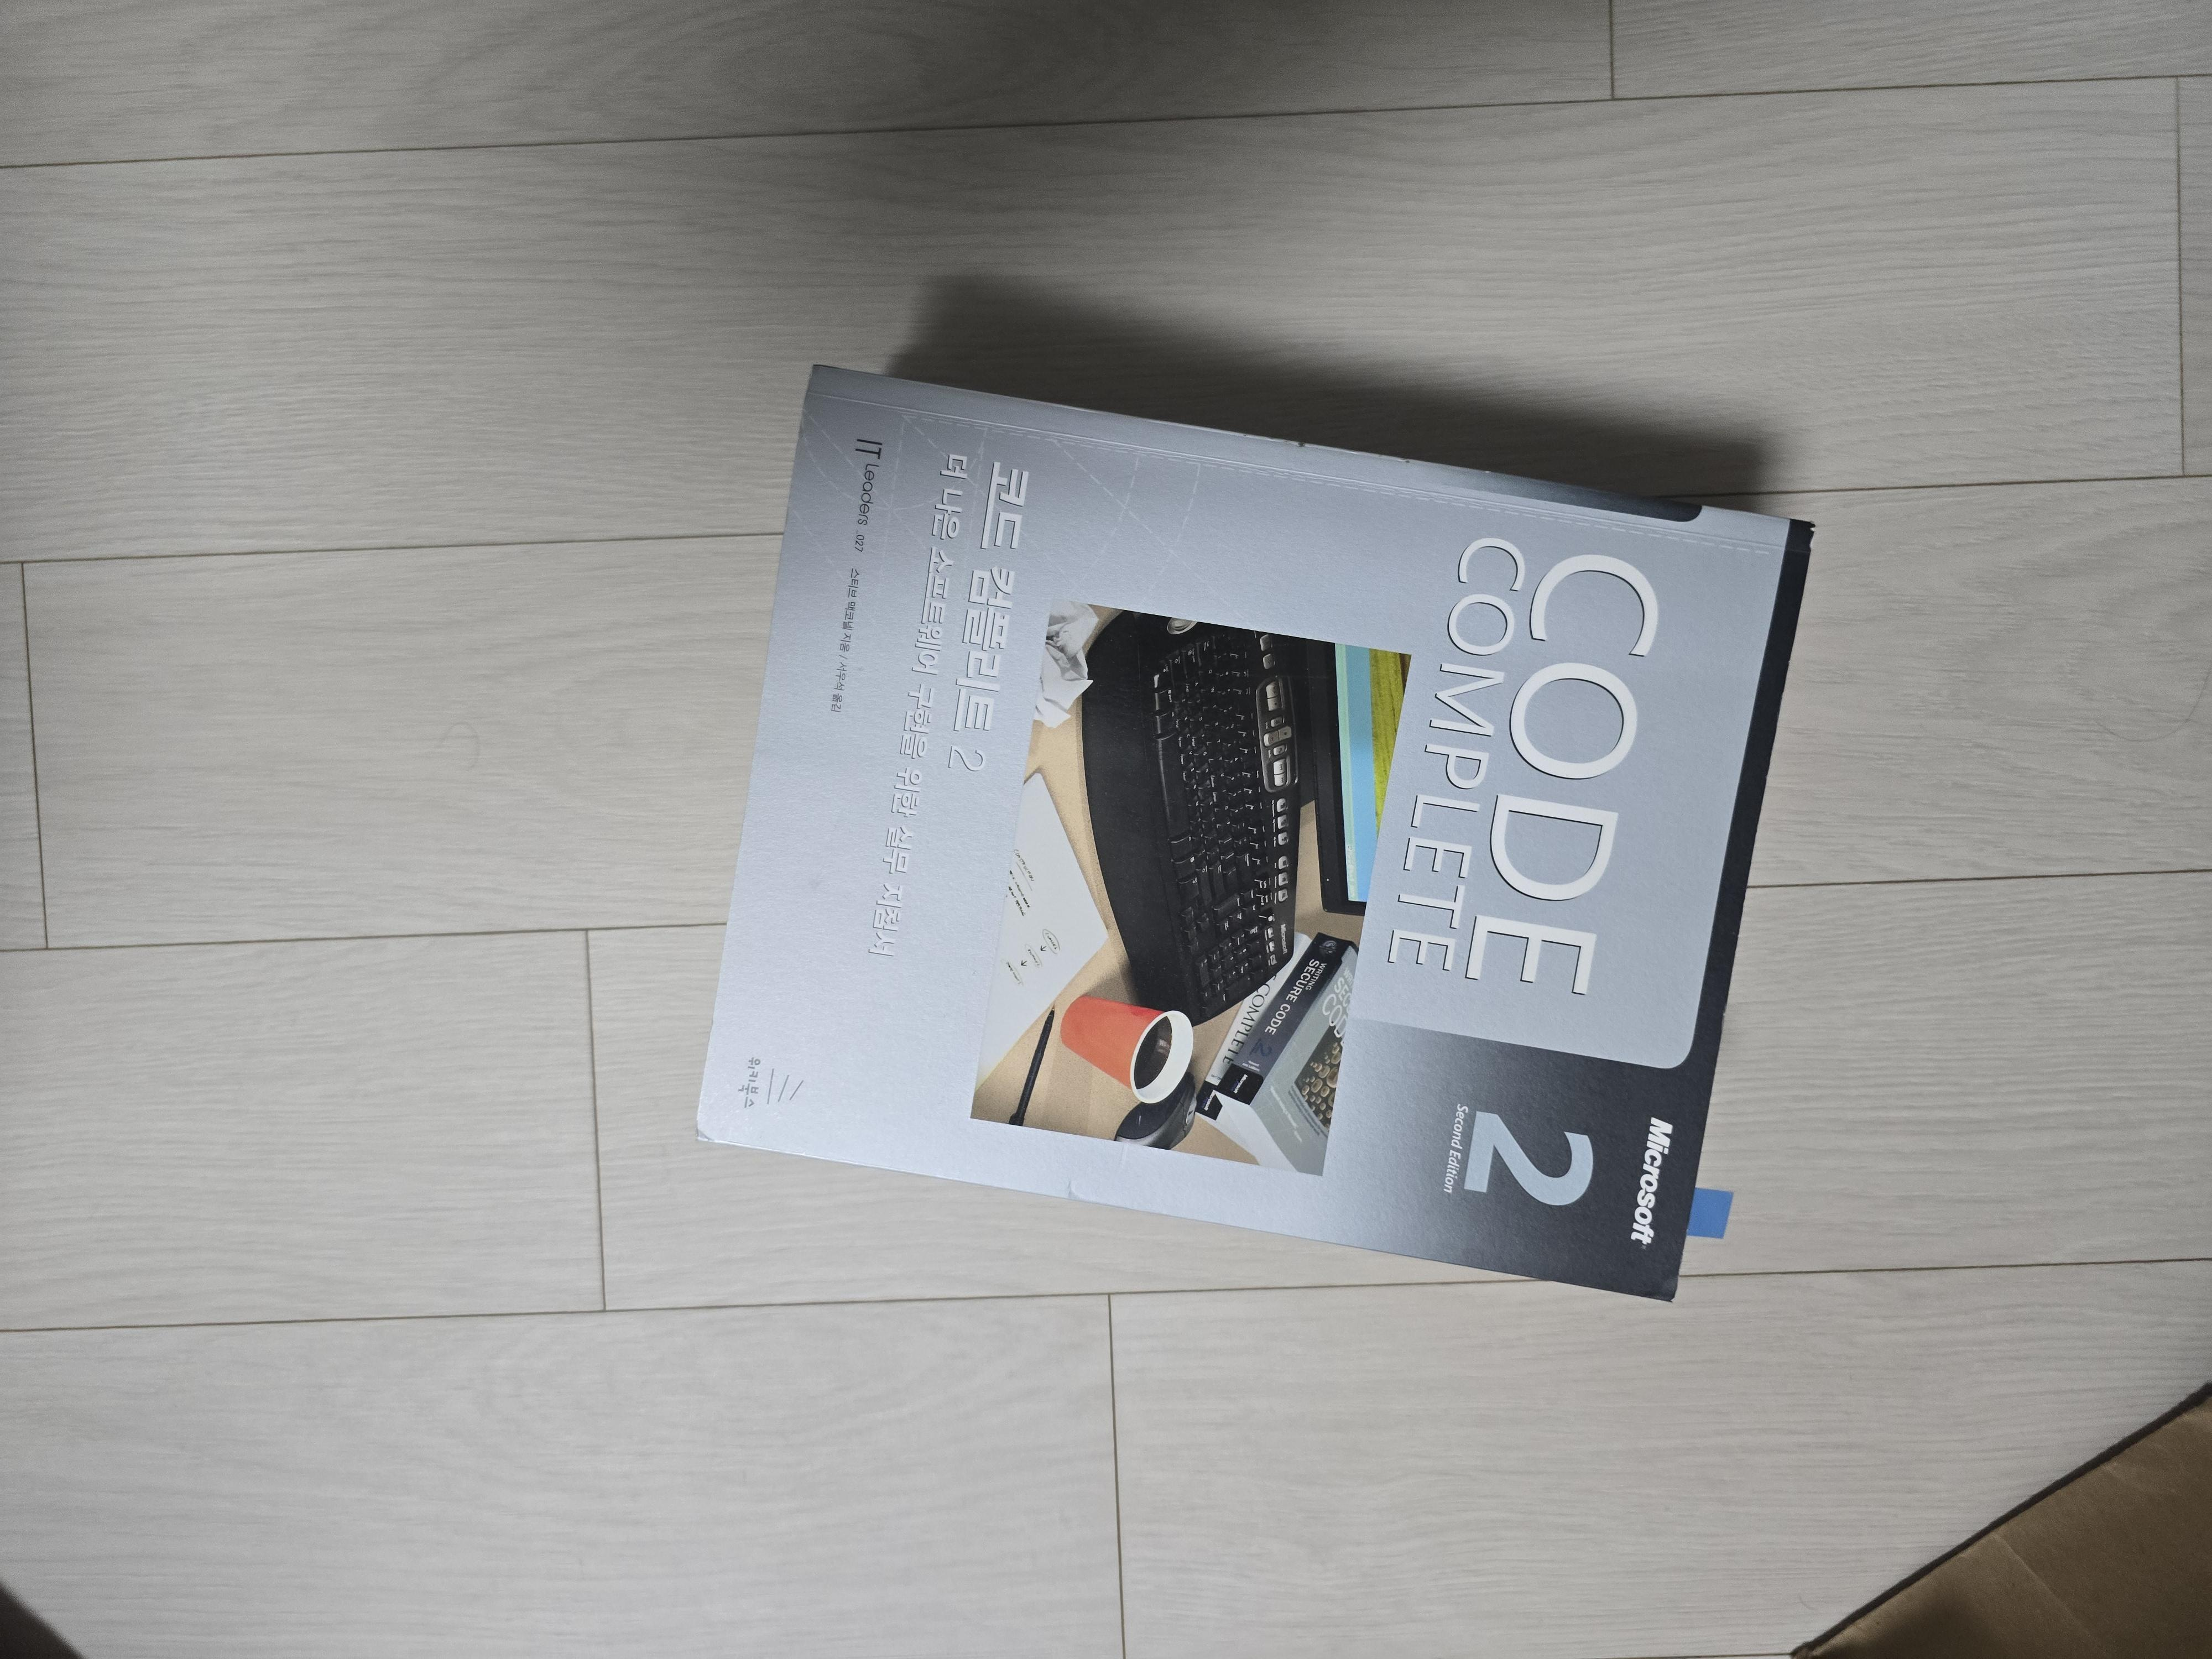book: (695, 361, 1815, 1302)
keyboard: (1078, 608, 1305, 1026)
